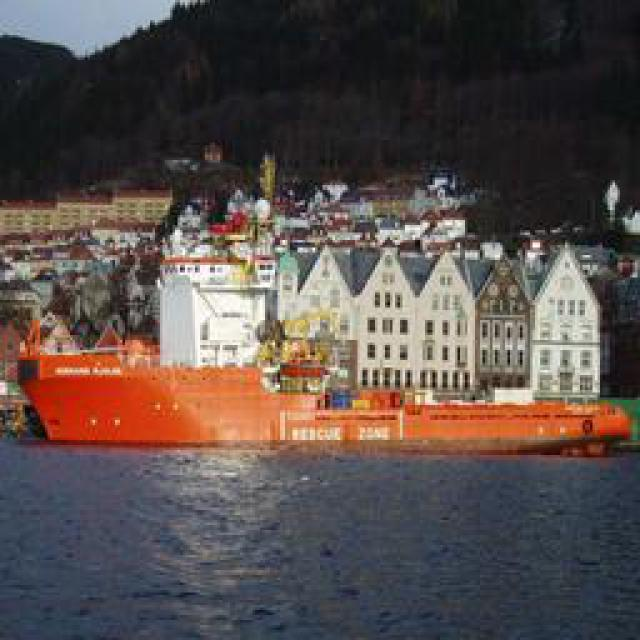Ship: (12, 355, 635, 455)
